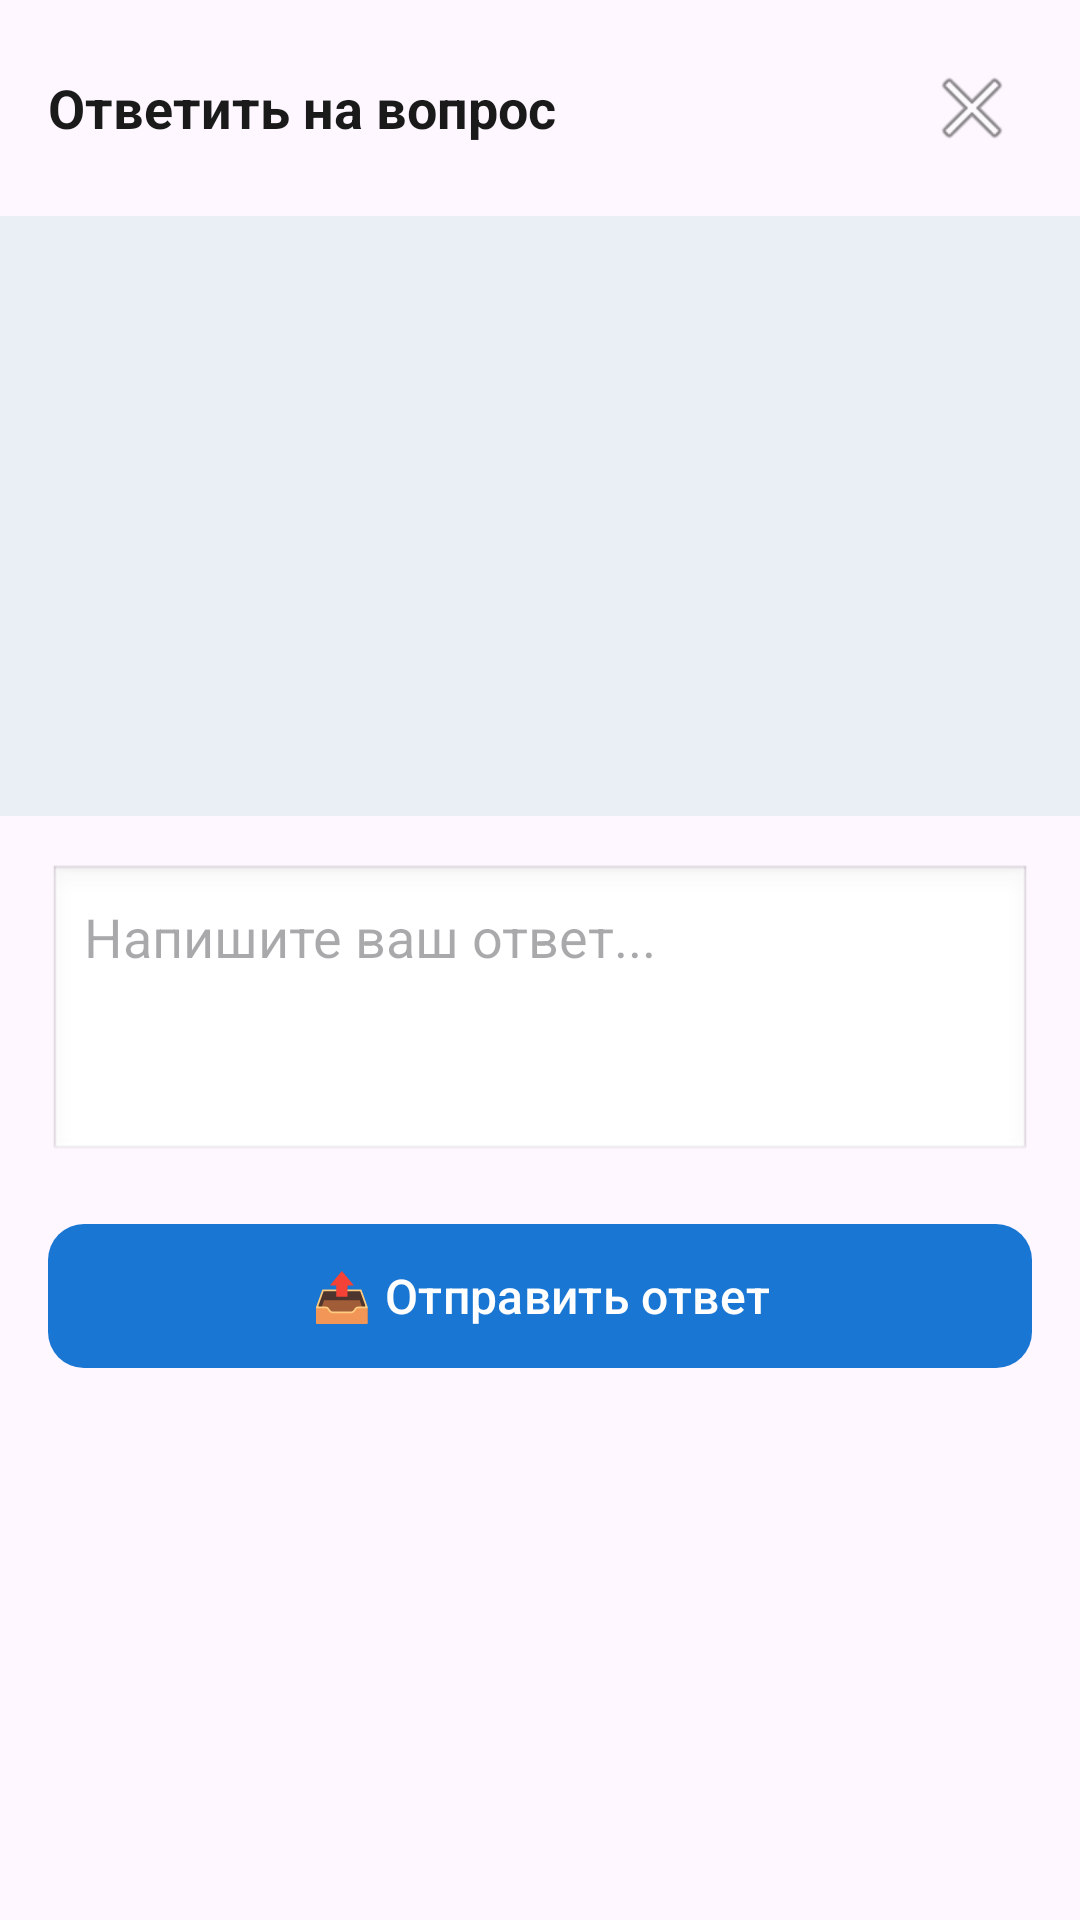

Icon click points for this 1080w x 1920h phone screenshot, format (x=x, y=y):
Закрыть: (x=972, y=108)
